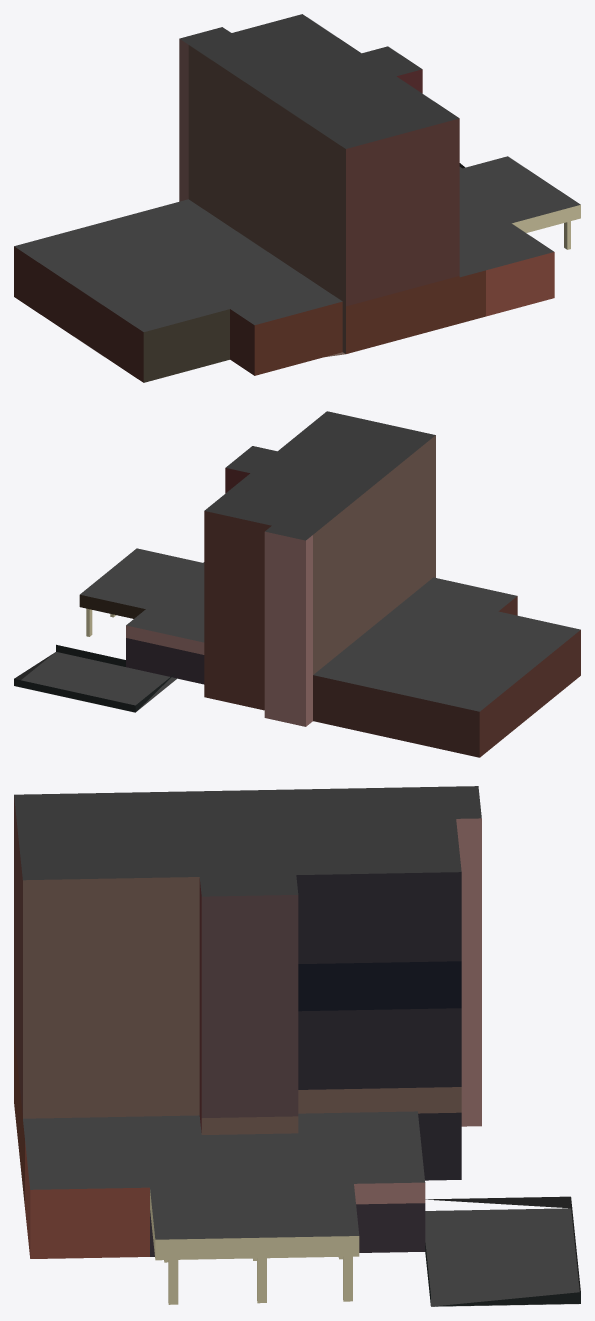
The model's file is doubletree-hotel-chattanooga.glb.
The picture shows the model from 3 angles, top to bottom: view 1: azimuth 30°, elevation 25°; view 2: azimuth 150°, elevation 25°; view 3: azimuth 270°, elevation 25°; orthographic projection. The views are drawn at different scales.
Parts seen in each view (by area): view 1: LOD0; view 2: LOD0; view 3: LOD0.
Boxes of the visible parts, x1,y1,x2,y2 form: LOD0: [14, 14, 580, 382]; LOD0: [14, 411, 580, 757]; LOD0: [14, 786, 580, 1306].
Size of what is drawn, in the model's own units: 74.19 by 30.8 by 51.42.
Materials: 3 (3 with a texture image).
